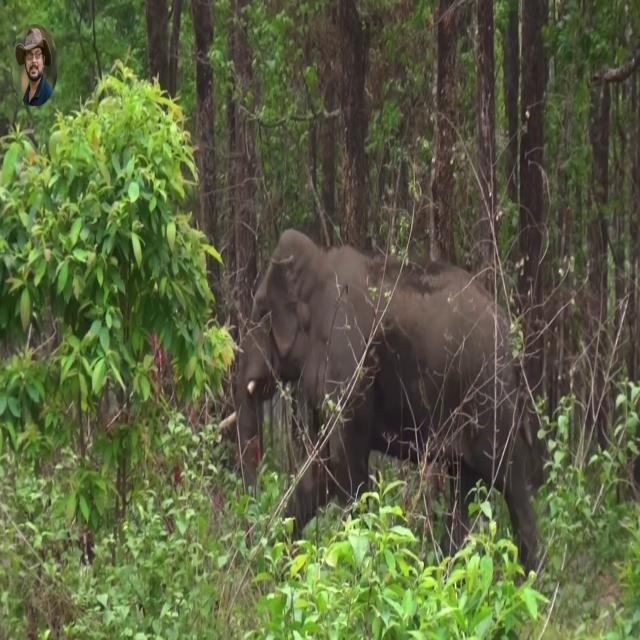Elephant: (222, 227, 545, 584)
person: (15, 24, 57, 107)
